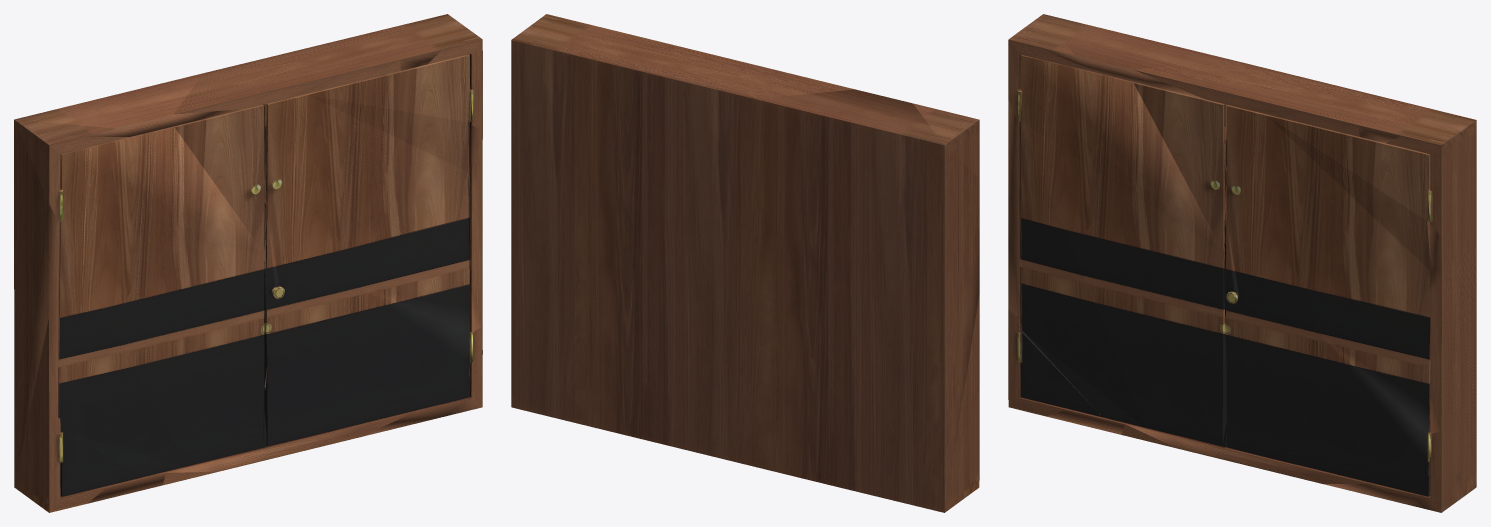
Rendered from PR_BuiltInCabinet.fbx.
The picture shows the model from 3 angles, left to right: view 1: azimuth 30°, elevation 25°; view 2: azimuth 150°, elevation 25°; view 3: azimuth 330°, elevation 25°; orthographic projection.
Visible parts, largest first — view 1: Mesh_0; view 2: Mesh_0; view 3: Mesh_0.
Boxes of the visible parts, x1,y1,x2,y2 form: Mesh_0: [14, 14, 482, 512]; Mesh_0: [511, 14, 979, 512]; Mesh_0: [1008, 14, 1476, 512].
Bounding box in the file's own units: 190 × 154 × 29.22.
1 material, 1 textured.
